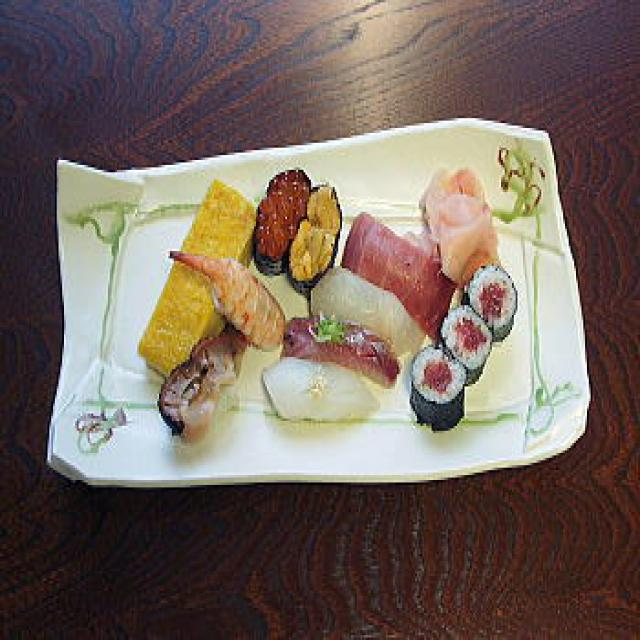寿司卷物: (135, 165, 547, 468)
